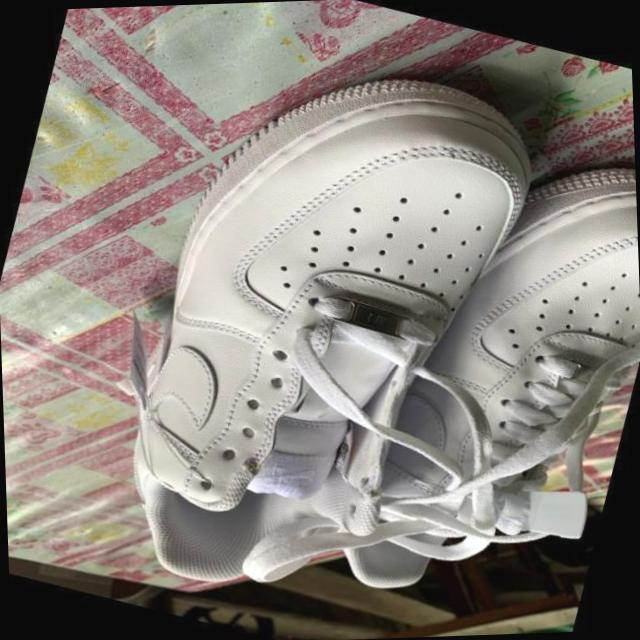nike_original_airforce: (88, 21, 563, 640), (309, 109, 640, 640)
